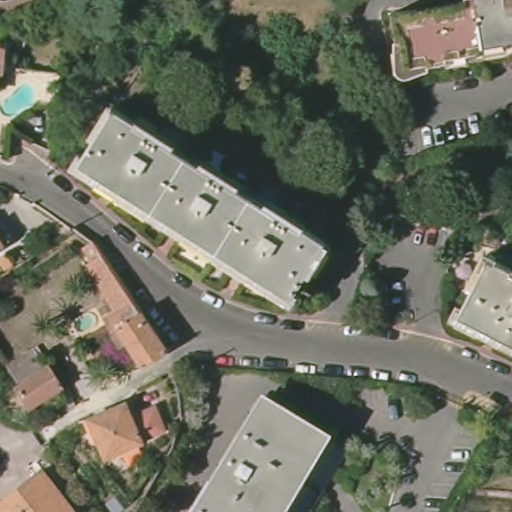pool: (1, 82, 41, 117), (71, 311, 98, 333)
